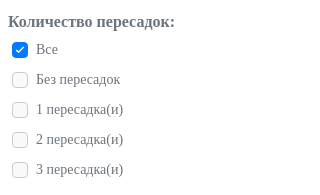
<StopsFilter /> › should check that the checkbox "All" is changing
expect the checkbox with test id "checkbox-all" is checked: met, box [12,42,28,58]
Click the checkbox with test id "checkbox-0" at coordinates (20, 80), box [12,72,28,88]
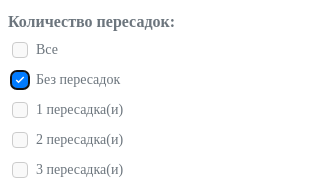
expect the checkbox with test id "checkbox-0" is checked: met, box [12,72,28,88]
expect the checkbox with test id "checkbox-all" is not checked: met, box [12,42,28,58]
